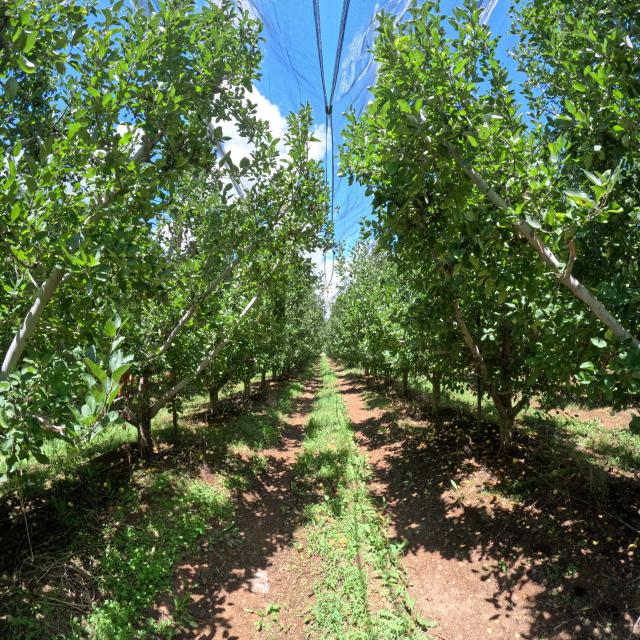-FireBlight-: (118, 373, 135, 396), (165, 371, 172, 379), (122, 424, 128, 430), (127, 414, 132, 421), (120, 412, 125, 417)
